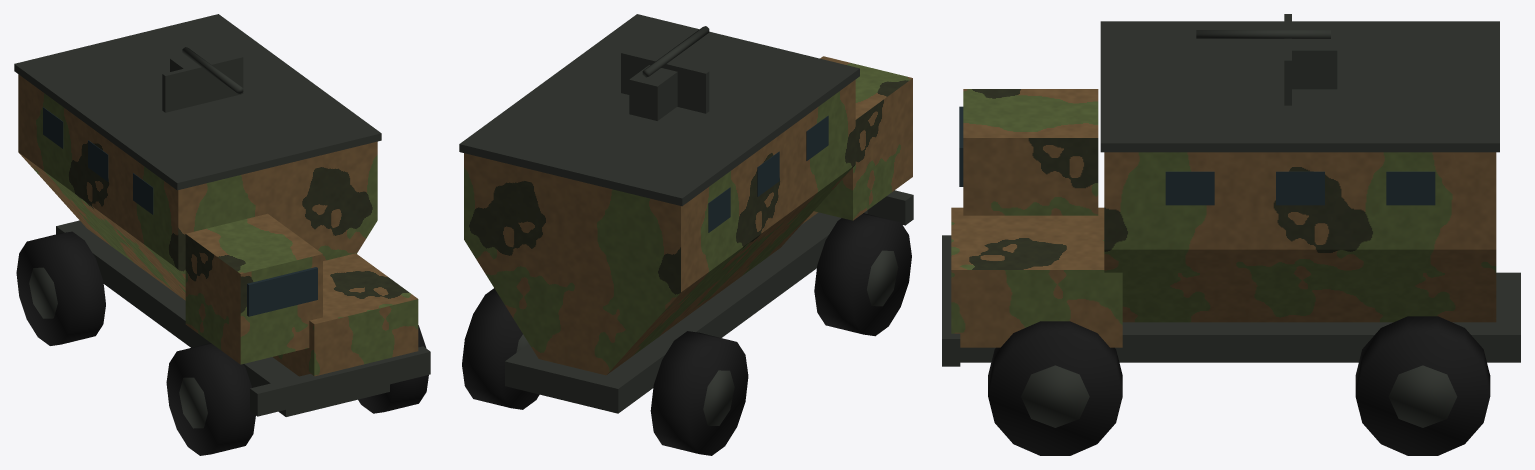
The model's file is buffel.glb.
3 renders of one model, left to right at view 1: azimuth 30°, elevation 25°; view 2: azimuth 150°, elevation 25°; view 3: azimuth 270°, elevation 25°, orthographic. The views are drawn at different scales.
Visible parts, largest first — view 1: Body, Wheel.001, Wheel, Wheel.002; view 2: Body, Wheel.001, Wheel, Wheel.003; view 3: Body, Wheel.003, Wheel.002.
Boxes of the visible parts, x1,y1,x2,y2 form: Body: (14,14,430,416); Wheel.001: (16,231,105,345); Wheel: (166,343,255,455); Wheel.002: (358,325,428,413); Body: (459,14,913,413); Wheel.001: (650,331,748,455); Wheel: (814,213,911,336); Wheel.003: (462,288,539,409); Body: (942,14,1520,366); Wheel.003: (1355,316,1490,455); Wheel.002: (988,321,1122,455).
Size of the model in its own units: 2.42 by 3.28 by 4.72.
Materials: 4 (1 with a texture image).
